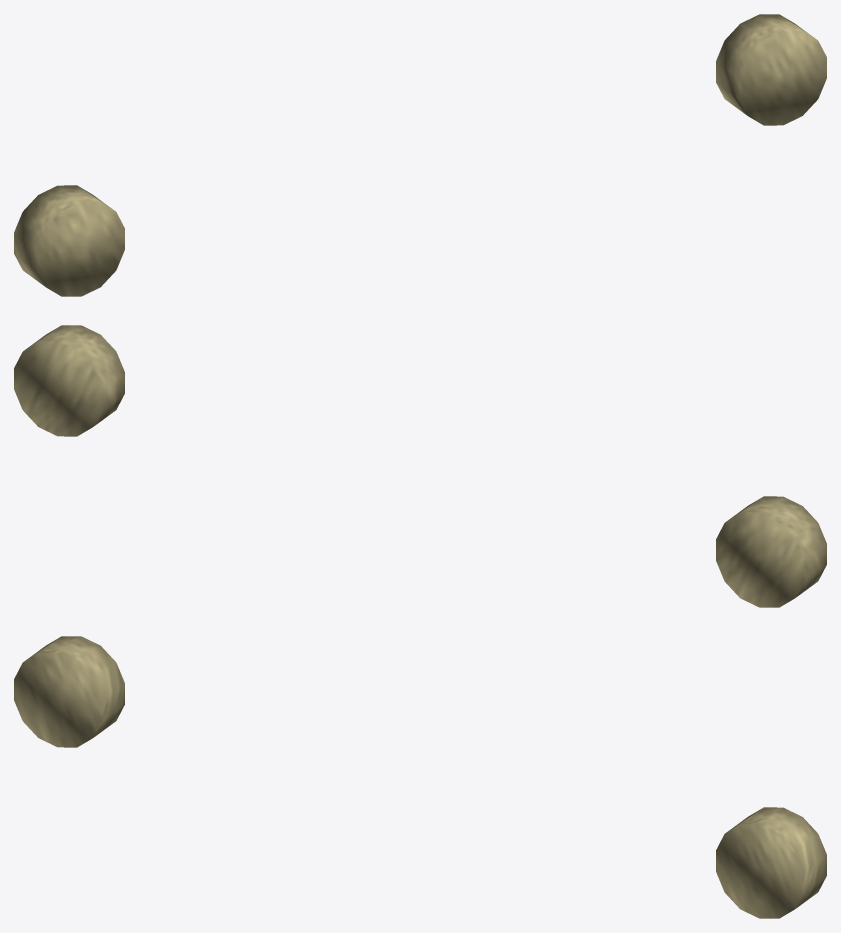
3 views of the same model, one above another, from view 1: azimuth 30°, elevation 25°; view 2: azimuth 150°, elevation 25°; view 3: azimuth 330°, elevation 25° (orthographic).
Size of the model in its own units: 1.93 by 0.22 by 0.1.
1 material, 1 textured.
